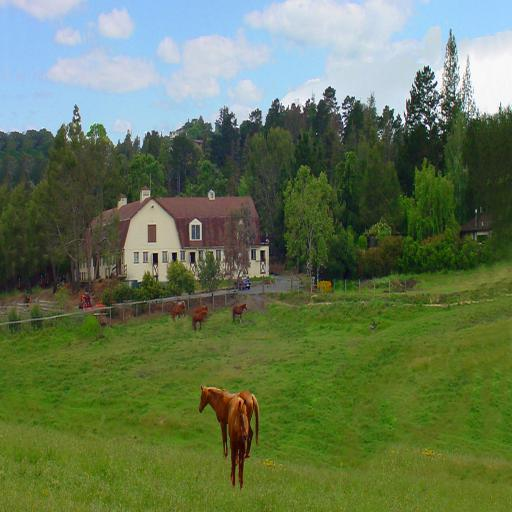horse: (200, 388, 258, 464), (227, 398, 249, 488), (192, 303, 210, 326), (192, 310, 208, 332), (233, 302, 248, 325), (170, 301, 186, 320)
